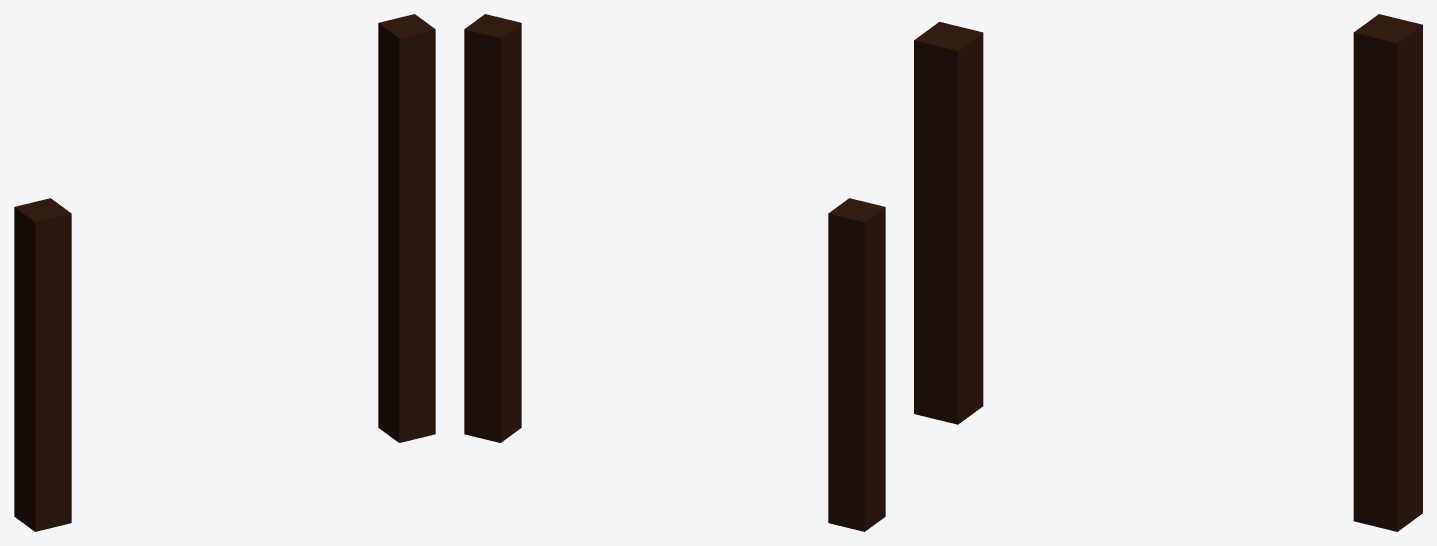
File: Railing-2x1-Post-Double-Ends-Ramped-Upper.FBX
The picture shows the model from 3 angles, left to right: view 1: azimuth 30°, elevation 25°; view 2: azimuth 150°, elevation 25°; view 3: azimuth 330°, elevation 25°; orthographic projection. The views are drawn at different scales.
Parts seen in each view (by area): view 1: Railing-2x1-Post-Double-Ends-Ramped-Upper; view 2: Railing-2x1-Post-Double-Ends-Ramped-Upper; view 3: Railing-2x1-Post-Double-Ends-Ramped-Upper.
Boxes of the visible parts, x1,y1,x2,y2 form: Railing-2x1-Post-Double-Ends-Ramped-Upper: (14, 14, 435, 531); Railing-2x1-Post-Double-Ends-Ramped-Upper: (464, 14, 885, 531); Railing-2x1-Post-Double-Ends-Ramped-Upper: (914, 14, 1422, 531).
Bounding box in the file's own units: 22 × 2 × 21.25.
